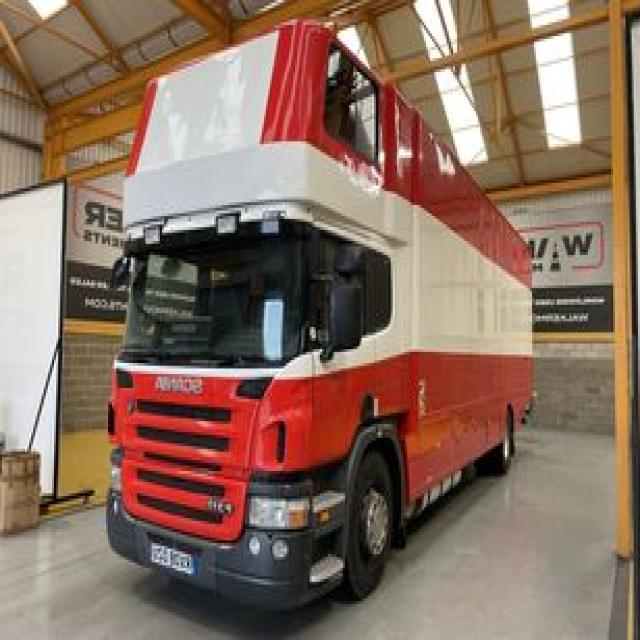truck: (95, 22, 531, 607)
